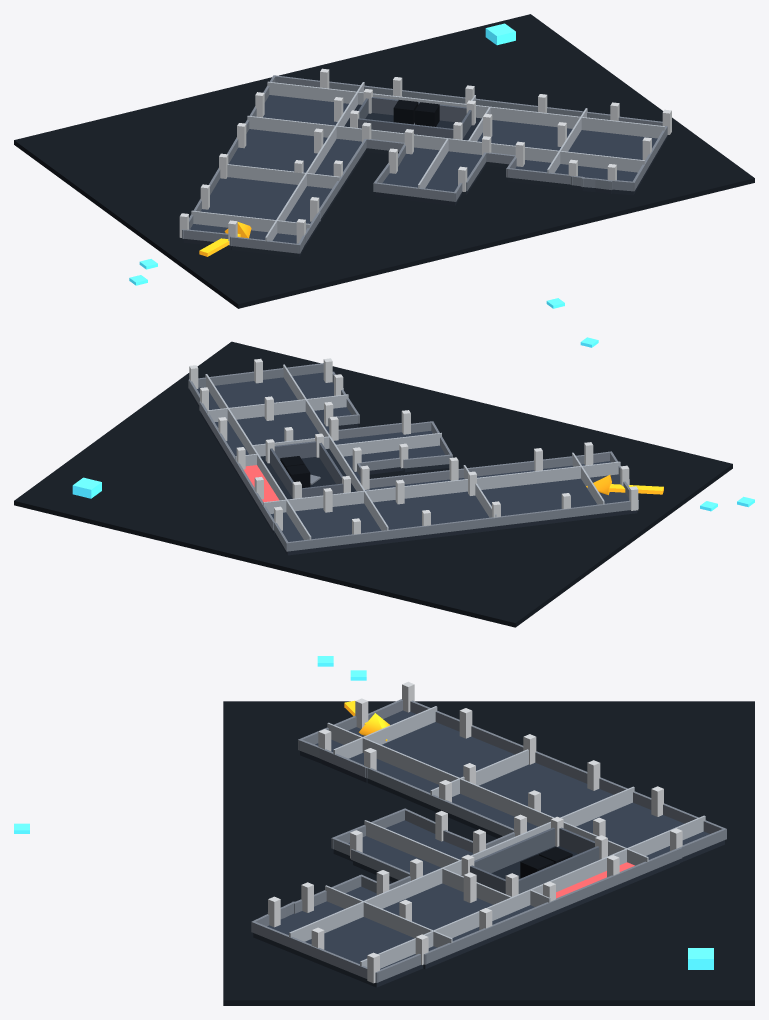
3 views of the same model, one above another, from view 1: azimuth 30°, elevation 25°; view 2: azimuth 150°, elevation 25°; view 3: azimuth 270°, elevation 25° (orthographic). The views are drawn at different scales.
Visible parts, largest first — view 1: FireSight 140 New Montgomery St floor 23; view 2: FireSight 140 New Montgomery St floor 23; view 3: FireSight 140 New Montgomery St floor 23.
Part boxes in pixels (bbox=[...]): FireSight 140 New Montgomery St floor 23: bbox=[14, 14, 754, 308]; FireSight 140 New Montgomery St floor 23: bbox=[14, 337, 754, 627]; FireSight 140 New Montgomery St floor 23: bbox=[14, 656, 754, 1005].
Bounding box in the file's own units: 0.7889 × 0.043 × 0.7372.
